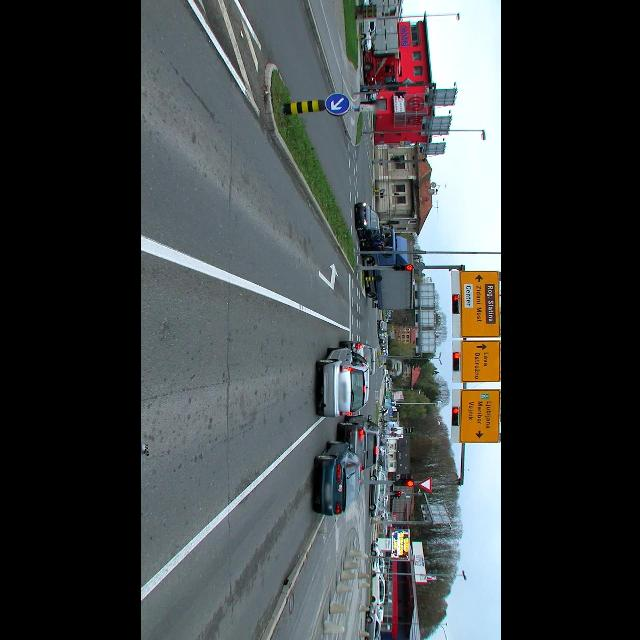Rectangle: (459, 271, 498, 337), (458, 390, 499, 442), (460, 341, 500, 382)
Round: (324, 94, 350, 116)
Triangle: (418, 478, 430, 490)
